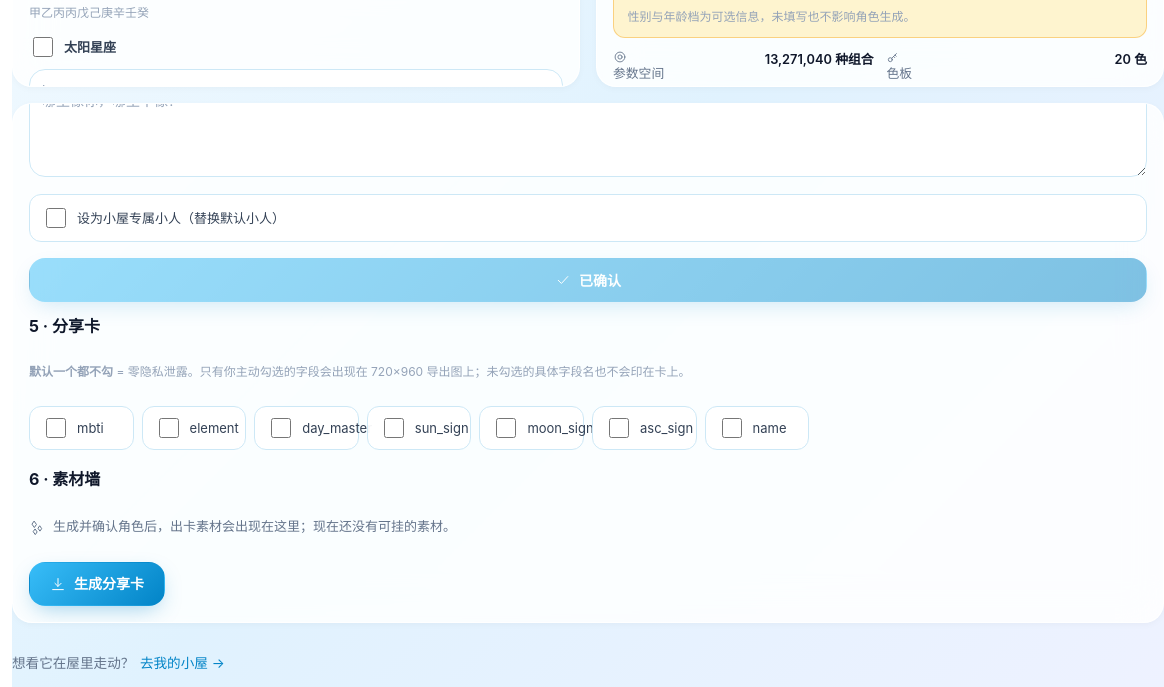
Test case: W11 · 确认与分享卡 › 已确认时可出卡，且只把勾选的字段送上去
The image size is (1164, 687).
(page scrolled)
Note:  勾选 mbti
Click the checkbox labelled "mbti" at (56, 428), box [46, 418, 66, 438]
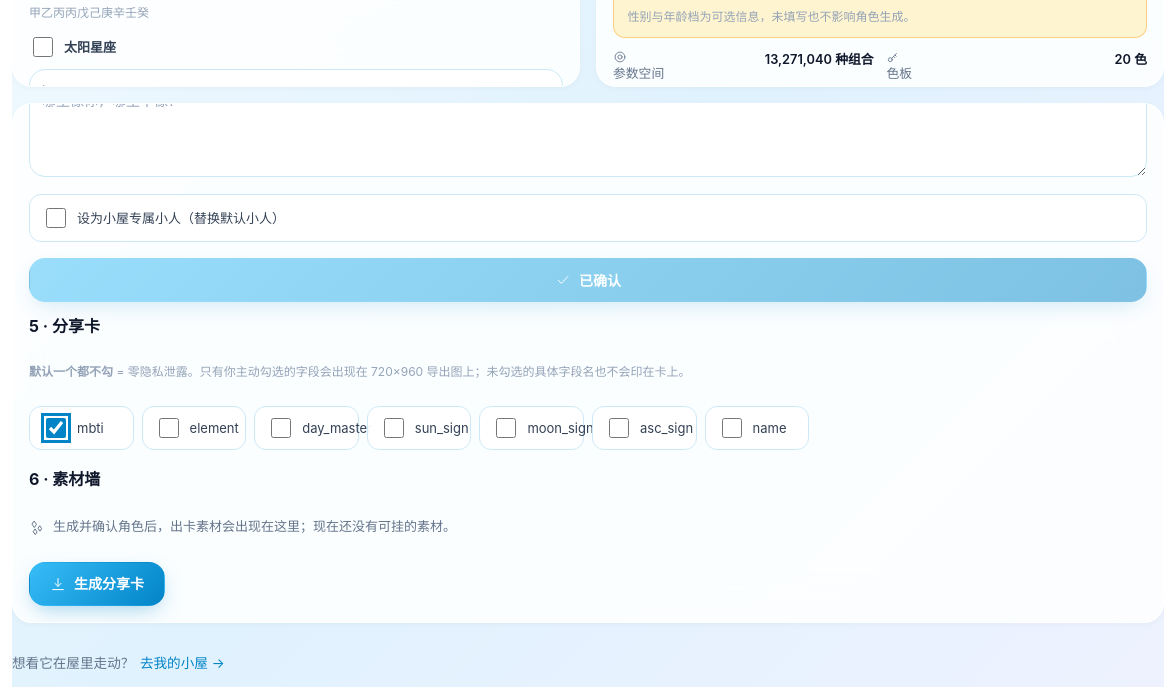
Click the button "生成分享卡" at (97, 584), box [29, 562, 165, 606]
(page scrolled)
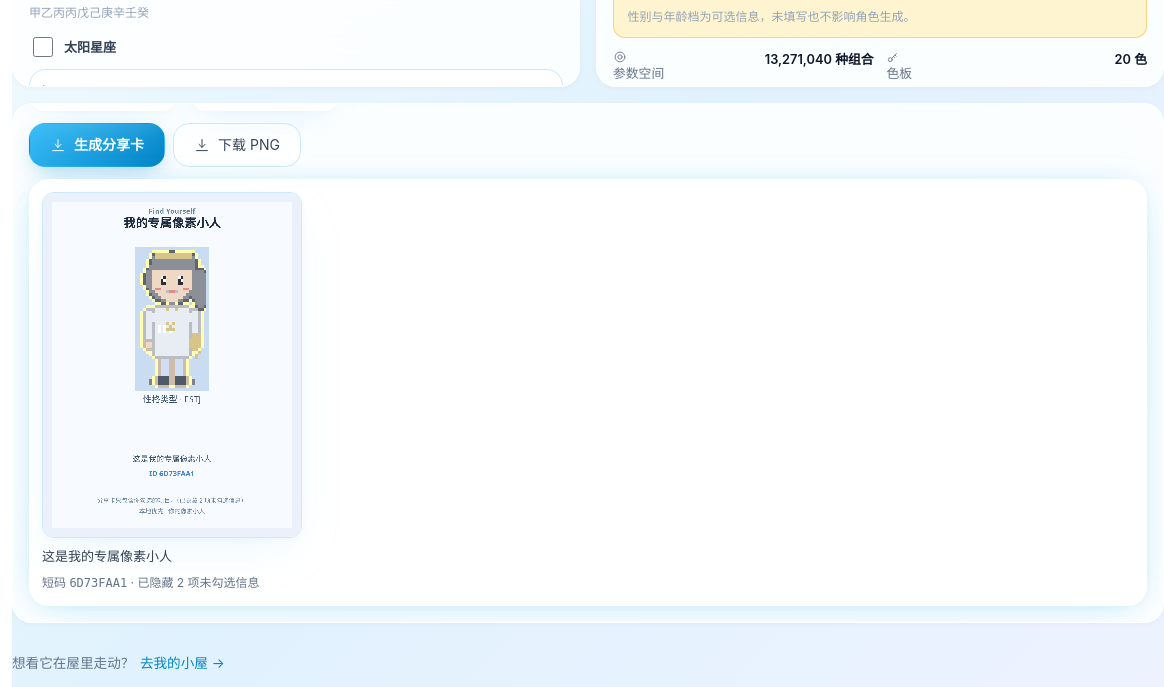
Result: the text "短码 6D73FAA1 · 已隐藏 2 项未勾选信息" is shown at [42, 575, 260, 590]
Result: the picture named "我的像素小人分享卡预览" is shown at [42, 192, 302, 538]
